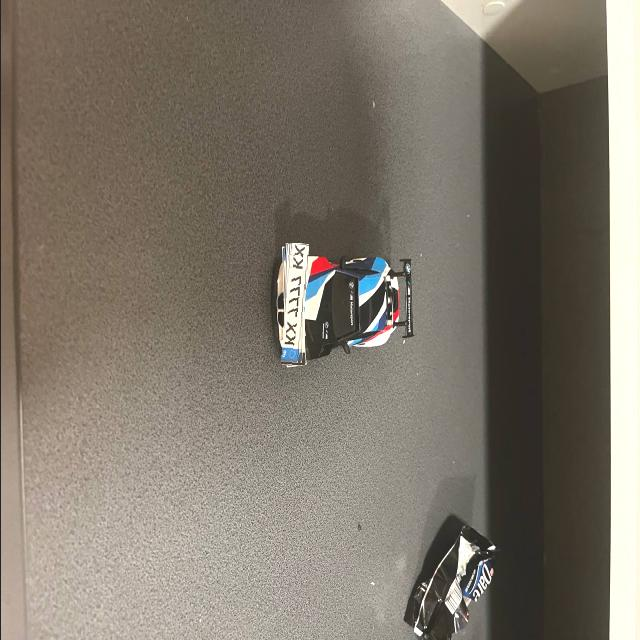KX 7777 KX: (282, 244, 306, 366)
